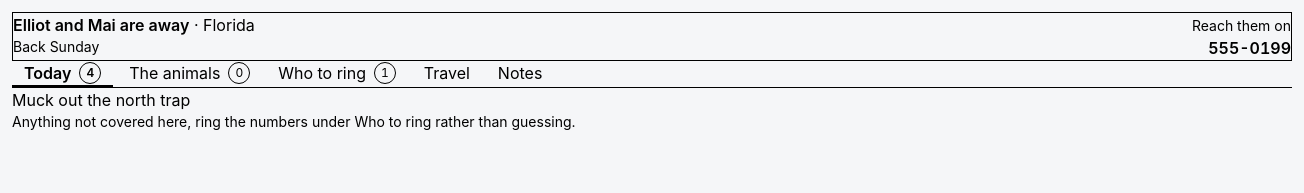
Test: the journey › reads the departure back exactly as it was typed
What coordinates should you click on to do the following:
click the tab "Travel"
I would click on:
 (447, 74)
Its box is [412,61,482,87].
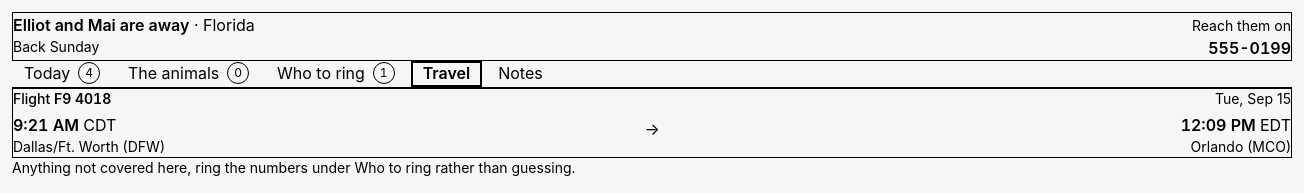
Result: the text "9:21 AM CDT" is shown at [13,115,116,135]
Result: the text "12:09 PM EDT" is shown at [1181,113,1291,137]
